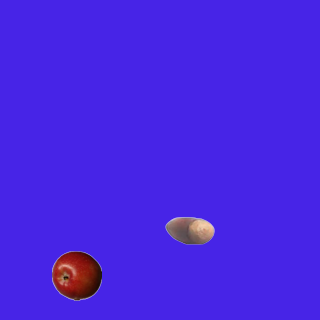Apple Braeburn: (51, 250, 101, 300)
Hazelnut: (164, 205, 214, 255)
